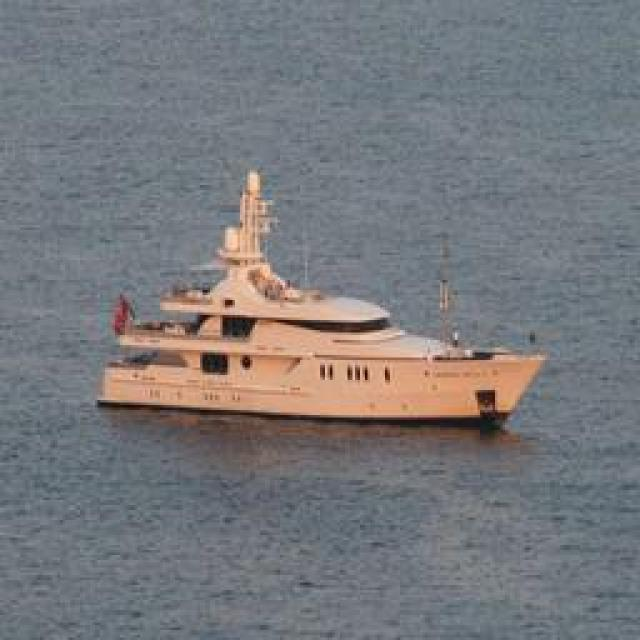Ship: (98, 160, 553, 428)
